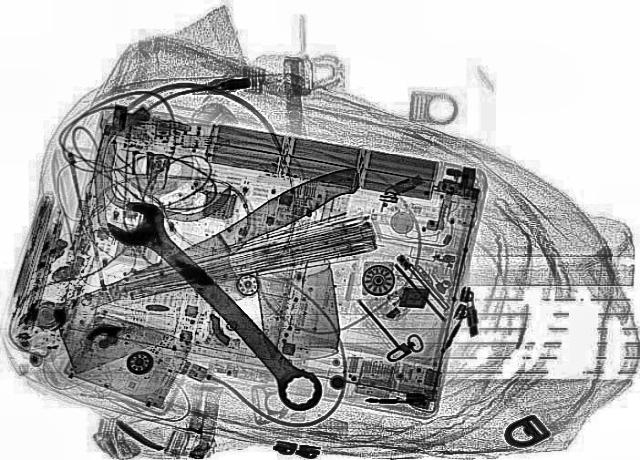Knife: (14, 159, 413, 379)
Wrench: (91, 192, 342, 416)
